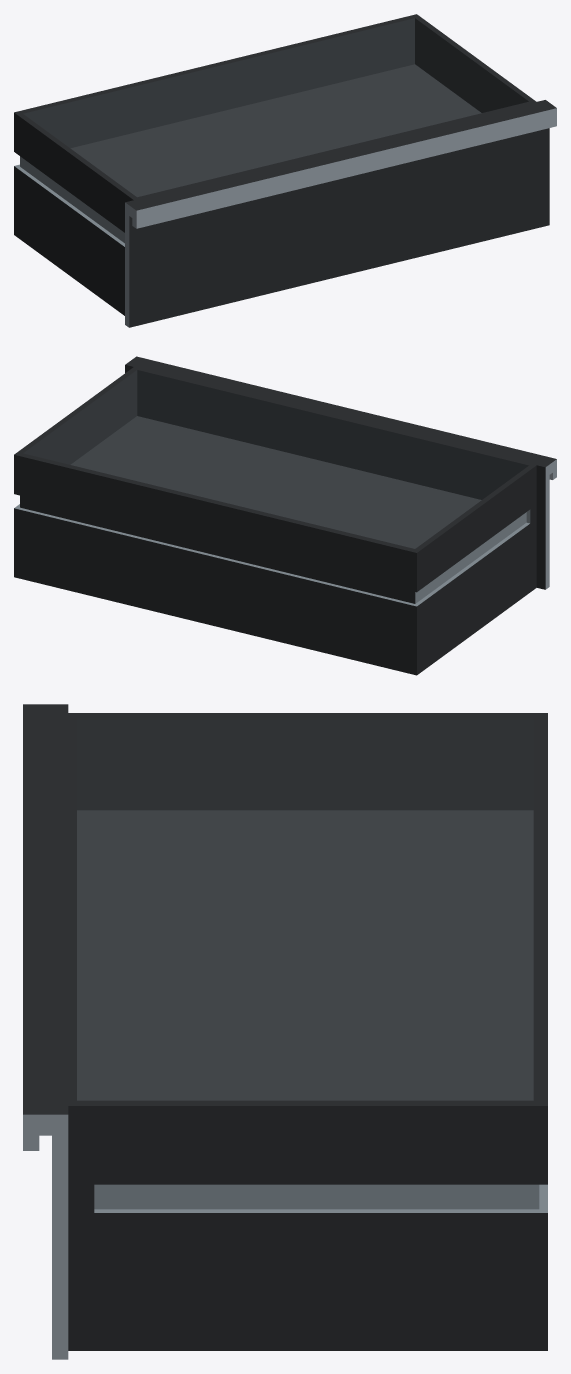
File: SM_Prop_ToolCabinet_02_Drawer_01.fbx
The picture shows the model from 3 angles, top to bottom: view 1: azimuth 30°, elevation 25°; view 2: azimuth 150°, elevation 25°; view 3: azimuth 270°, elevation 25°; orthographic projection. The views are drawn at different scales.
Visible parts, largest first — view 1: SM_Prop_ToolCabinet_02_Drawer_01; view 2: SM_Prop_ToolCabinet_02_Drawer_01; view 3: SM_Prop_ToolCabinet_02_Drawer_01.
Part boxes in pixels (x1,y1,x2,y2): SM_Prop_ToolCabinet_02_Drawer_01: (14, 14, 556, 327); SM_Prop_ToolCabinet_02_Drawer_01: (14, 356, 556, 675); SM_Prop_ToolCabinet_02_Drawer_01: (23, 704, 547, 1359).
Bounding box in the file's own units: 70.89 × 19.74 × 38.35.
